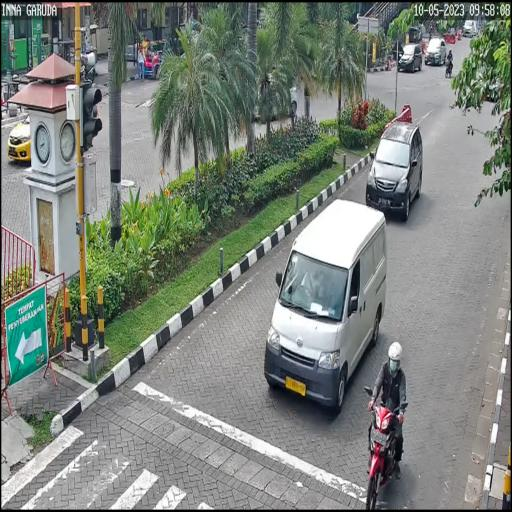mobil: (262, 196, 387, 414), (364, 122, 424, 218)
motor: (363, 382, 415, 512)
